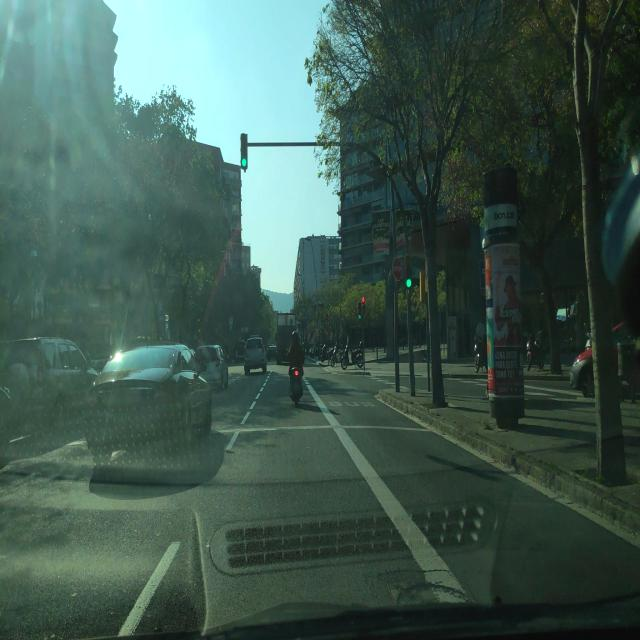bike: (341, 340, 368, 372), (288, 358, 305, 404), (331, 343, 349, 369), (319, 343, 337, 363)
car: (94, 343, 212, 456), (1, 336, 99, 436), (569, 318, 640, 401), (195, 343, 229, 389), (244, 335, 268, 374), (266, 343, 277, 361), (267, 343, 276, 358)
